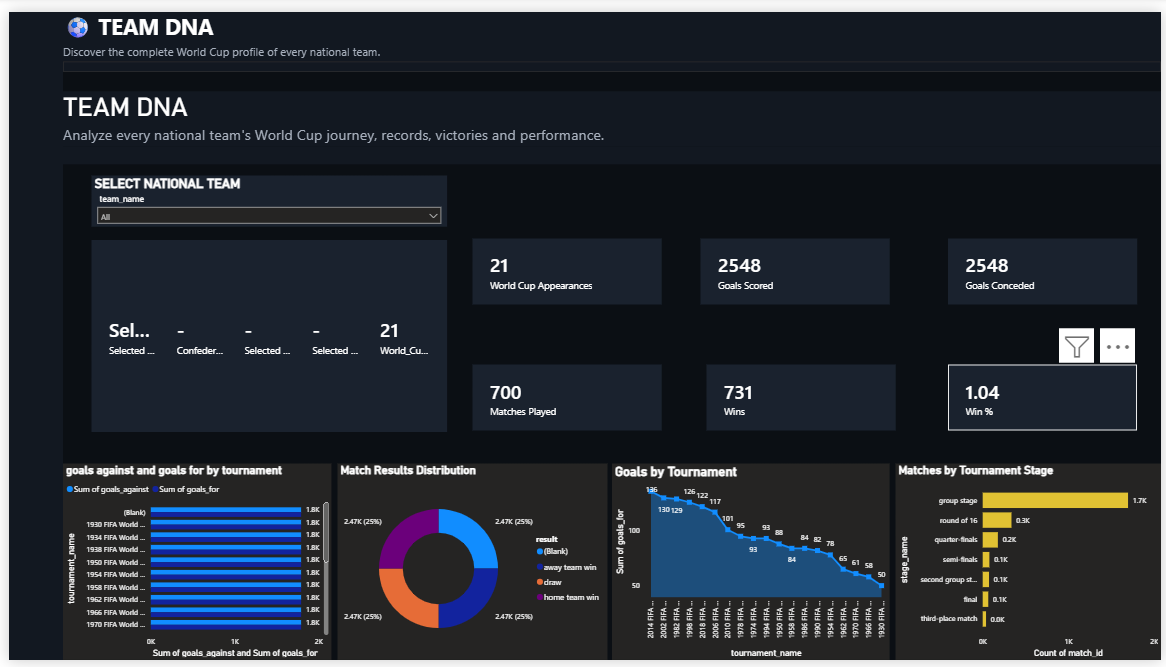

What the dashboard file says about the page in this screenshot:
{"tool":"powerbi","page":{"name":"TEAM DNA","canvas":[1920,1080],"ordinal":2},"visuals":[{"type":"shape","title":"⚽ TEAM DNA","box":[90,0,1830,100],"z":0},{"type":"shape","box":[0,0,90,1080],"z":1000},{"type":"shape","title":"TEAM DNA","box":[90,131.4,1890,121.4],"z":2000},{"type":"cardVisual","fields":{"Data":["measures (2).World Cup Appearances"]},"box":[772.5,377.5,315,110],"z":3000},{"type":"cardVisual","fields":{"Data":["measures (2).Goals Scored"]},"box":[1152.5,377.5,315,110],"z":4000},{"type":"cardVisual","fields":{"Data":["measures (2).Goals Conceded"]},"box":[1565,377.5,315,110],"z":5000},{"type":"cardVisual","fields":{"Data":["measures (2).Matches Played"]},"box":[772.5,587.5,315,110],"z":6000},{"type":"cardVisual","fields":{"Data":["measures (2).Wins"]},"box":[1162.5,587.5,315,110],"z":7000},{"type":"cardVisual","fields":{"Data":["measures (2).Win %"]},"box":[1565,587.5,315,110],"z":8000},{"type":"slicer","title":"SELECT NATIONAL TEAM","fields":{"Values":["Dim_teams.team_name"]},"box":[137.5,272.5,592.5,85],"z":9000},{"type":"clusteredBarChart","title":"goals against and goals for by tournament","fields":{"Category":["award_winners.tournament_name"],"Y":["Sum(group_standings.goals_against)","Sum(group_standings.goals_for)"]},"box":[90,752.5,447.5,327.5],"z":10000},{"type":"donutChart","title":"Match Results Distribution","fields":{"Y":["CountNonNull(bookings.match_id)"],"Category":["Fact_matches.result"]},"box":[547.5,752.5,450,327.5],"z":11000},{"type":"lineChart","title":"Goals by Tournament","fields":{"Y":["Sum(group_standings.goals_for)"],"Category":["Dim_tournaments.tournament_name"]},"box":[1005,752.5,462.5,327.5],"z":12000},{"type":"barChart","title":"Matches by Tournament Stage","fields":{"Category":["bookings.stage_name"],"Y":["CountNonNull(bookings.match_id)"]},"box":[1477.5,752.5,442.5,327.5],"z":13000},{"type":"cardVisual","fields":{"Data":["profile card.Selected Team","profile card.Confederation","profile card.Selected Federation","profile card.Selected Region","profile card.World_Cup_Appearances"]},"box":[137.5,380,592.5,320],"z":14000}]}

Visuals, with their boxes on the page's 1920x1080 design canvas (x1, y1, x2, y2). These are canvas units, not pixel positions in the 1166x667 screenshot, which may show the page scaled, cropped or inside an application window:
"⚽ TEAM DNA" shape: bbox(90, 0, 1920, 100)
shape: bbox(0, 0, 90, 1080)
"TEAM DNA" shape: bbox(90, 131, 1980, 253)
cardVisual - measures (2).World Cup Appearances: bbox(772, 378, 1088, 488)
cardVisual - measures (2).Goals Scored: bbox(1152, 378, 1468, 488)
cardVisual - measures (2).Goals Conceded: bbox(1565, 378, 1880, 488)
cardVisual - measures (2).Matches Played: bbox(772, 588, 1088, 698)
cardVisual - measures (2).Wins: bbox(1162, 588, 1478, 698)
cardVisual - measures (2).Win %: bbox(1565, 588, 1880, 698)
"SELECT NATIONAL TEAM" slicer: bbox(138, 272, 730, 358)
"goals against and goals for by tournament" clusteredBarChart: bbox(90, 752, 538, 1080)
"Match Results Distribution" donutChart: bbox(548, 752, 998, 1080)
"Goals by Tournament" lineChart: bbox(1005, 752, 1468, 1080)
"Matches by Tournament Stage" barChart: bbox(1478, 752, 1920, 1080)
cardVisual - profile card.Selected Team x profile card.Confederation: bbox(138, 380, 730, 700)
